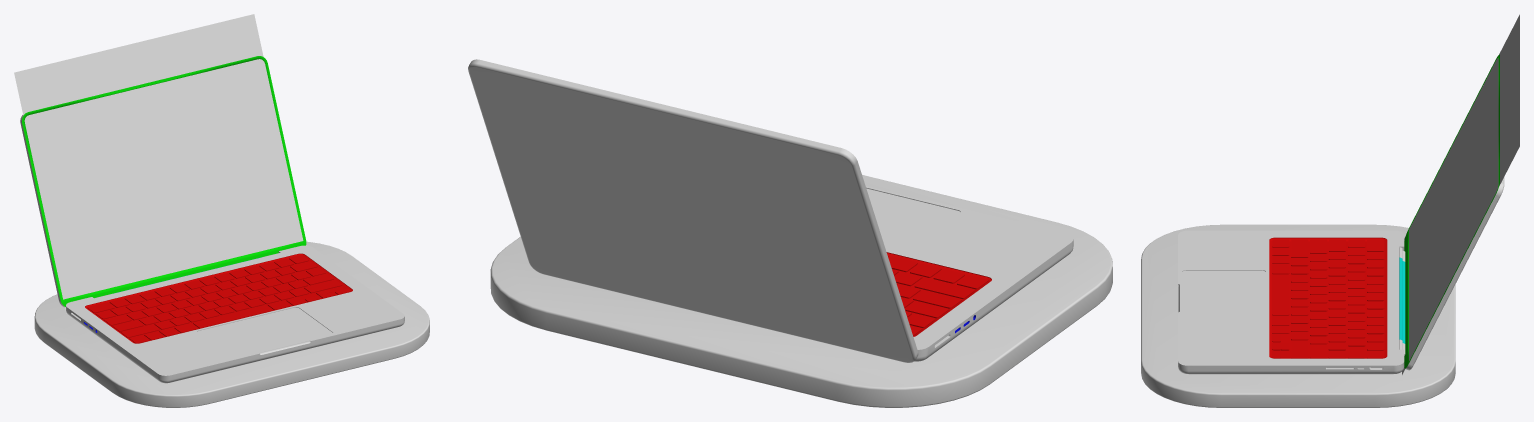
3 renders of one model, left to right at view 1: azimuth 30°, elevation 25°; view 2: azimuth 150°, elevation 25°; view 3: azimuth 270°, elevation 25°, orthographic. The views are drawn at different scales.
Visible parts, largest first — view 1: LaptopScreen, LaptopBase, Cube, LaptopDisplay; view 2: LaptopDisplay, Cube, LaptopBase; view 3: LaptopBase, Cube, LaptopScreen, LaptopDisplay.
Part boxes in pixels (left/top/right/bottom): LaptopScreen: left=14, top=14, right=303, bottom=313; LaptopBase: left=66, top=245, right=404, bottom=383; Cube: left=34, top=241, right=429, bottom=407; LaptopDisplay: left=20, top=56, right=306, bottom=307; LaptopDisplay: left=468, top=59, right=918, bottom=362; Cube: left=490, top=175, right=1112, bottom=407; LaptopBase: left=865, top=186, right=1073, bottom=361; LaptopBase: left=1178, top=230, right=1404, bottom=374; Cube: left=1141, top=224, right=1455, bottom=407; LaptopScreen: left=1402, top=14, right=1519, bottom=374; LaptopDisplay: left=1399, top=54, right=1504, bottom=370.
Size of the model in its own units: 0.5 by 0.3533 by 0.4717.
